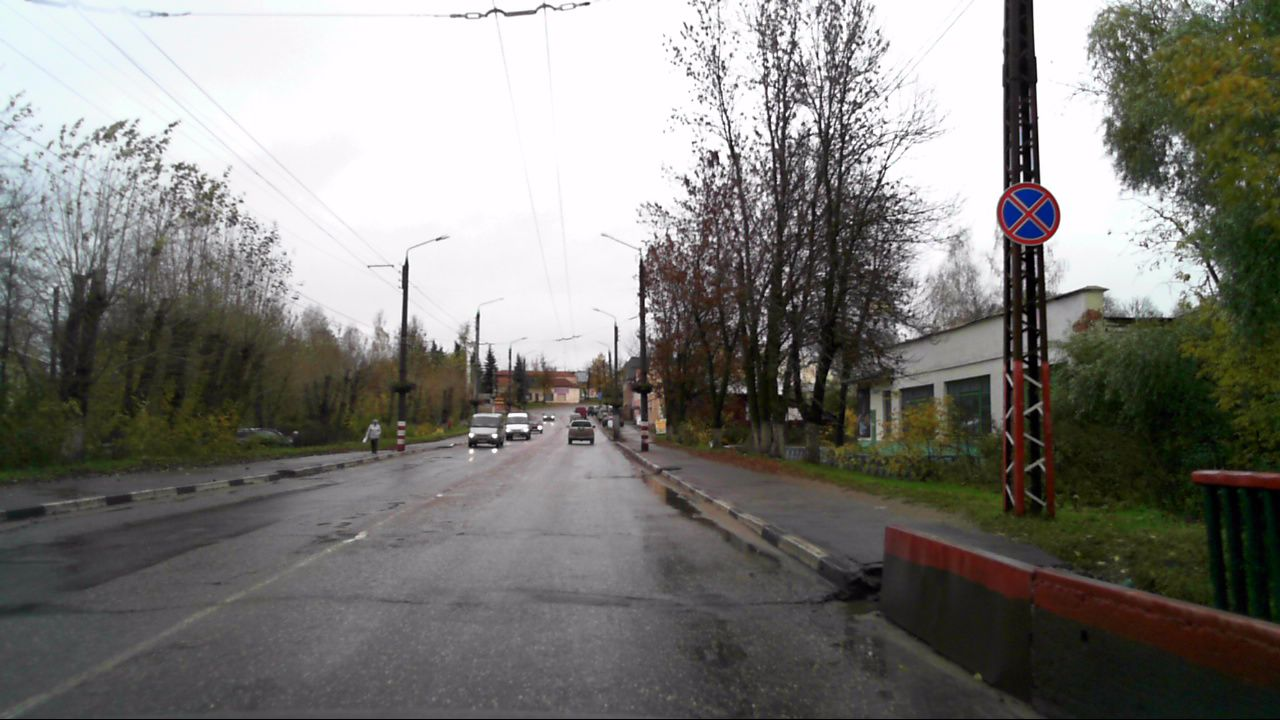No Parking: (997, 183, 1060, 244)
